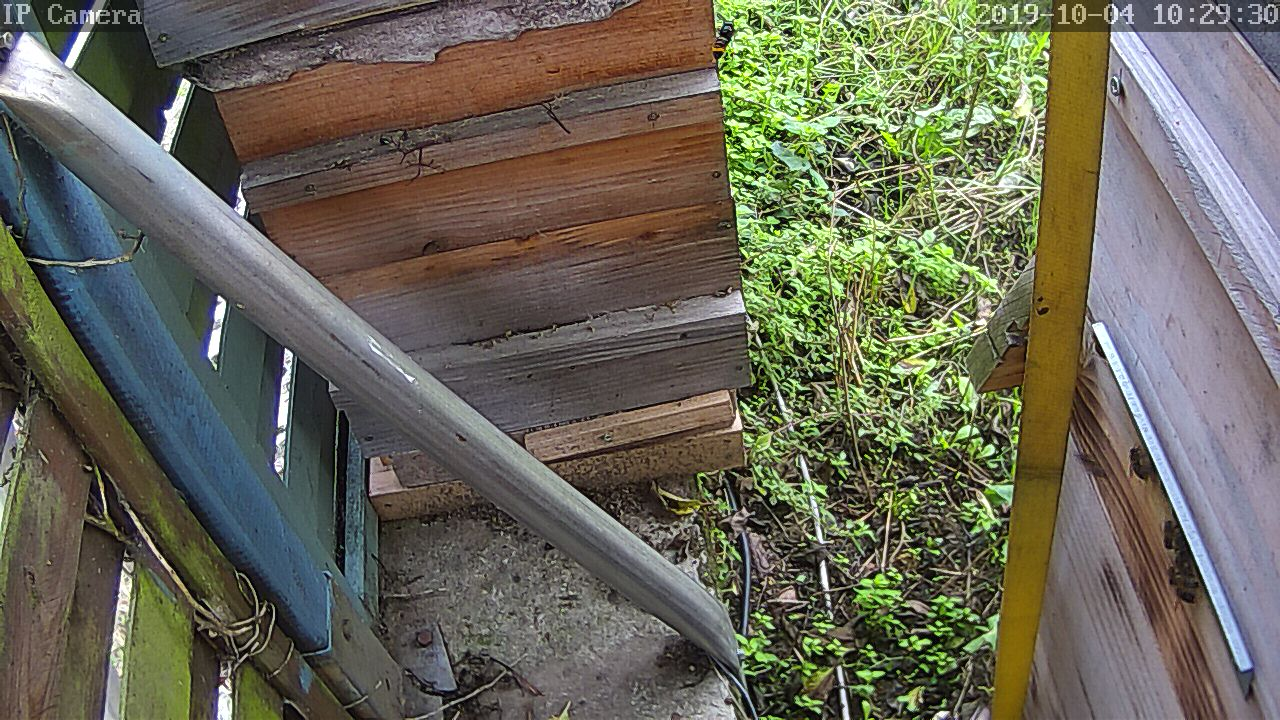bee: (1154, 524, 1196, 576), (1162, 559, 1206, 604), (1125, 443, 1157, 484)
hornet: (708, 18, 741, 63)
